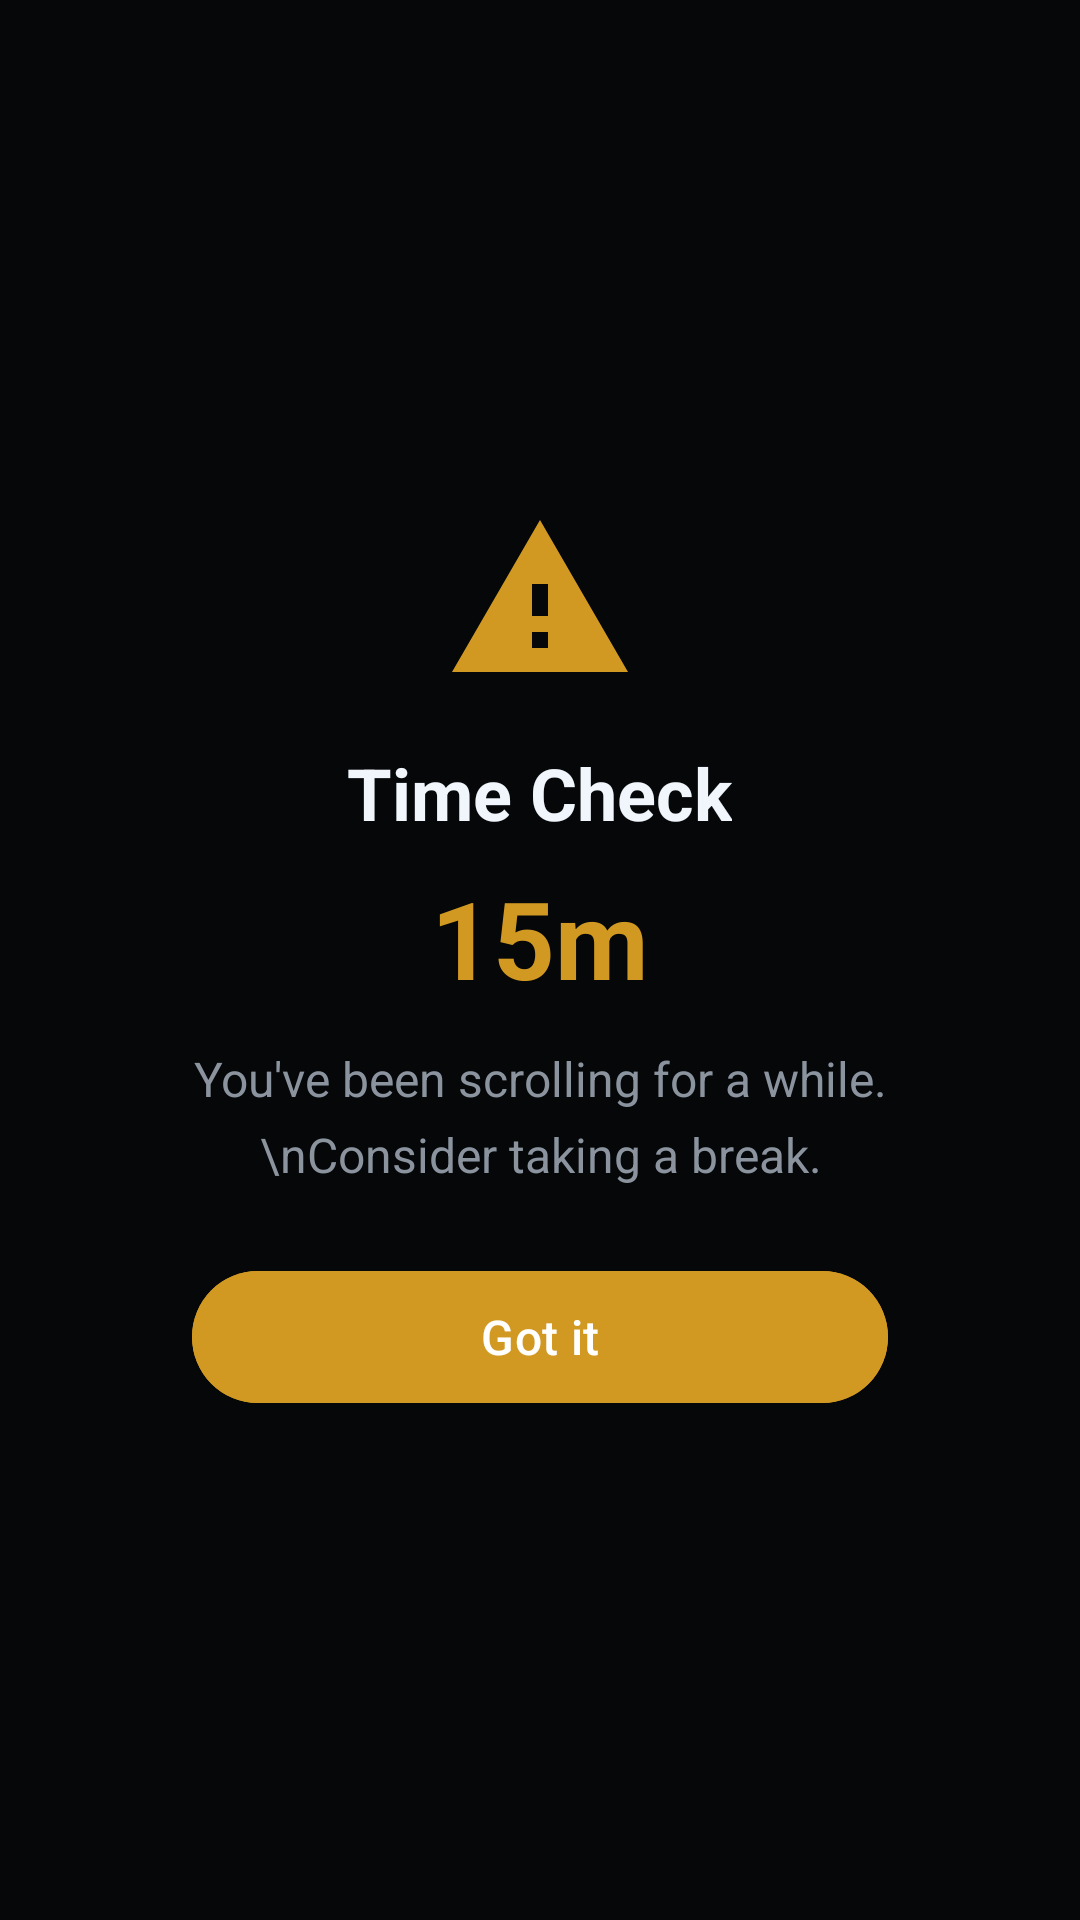

Locate icon controls on the screen. Image size 1080px x 1920px, boxes as (x1, y1, x2, y2).
warning: (452, 520, 628, 672)
